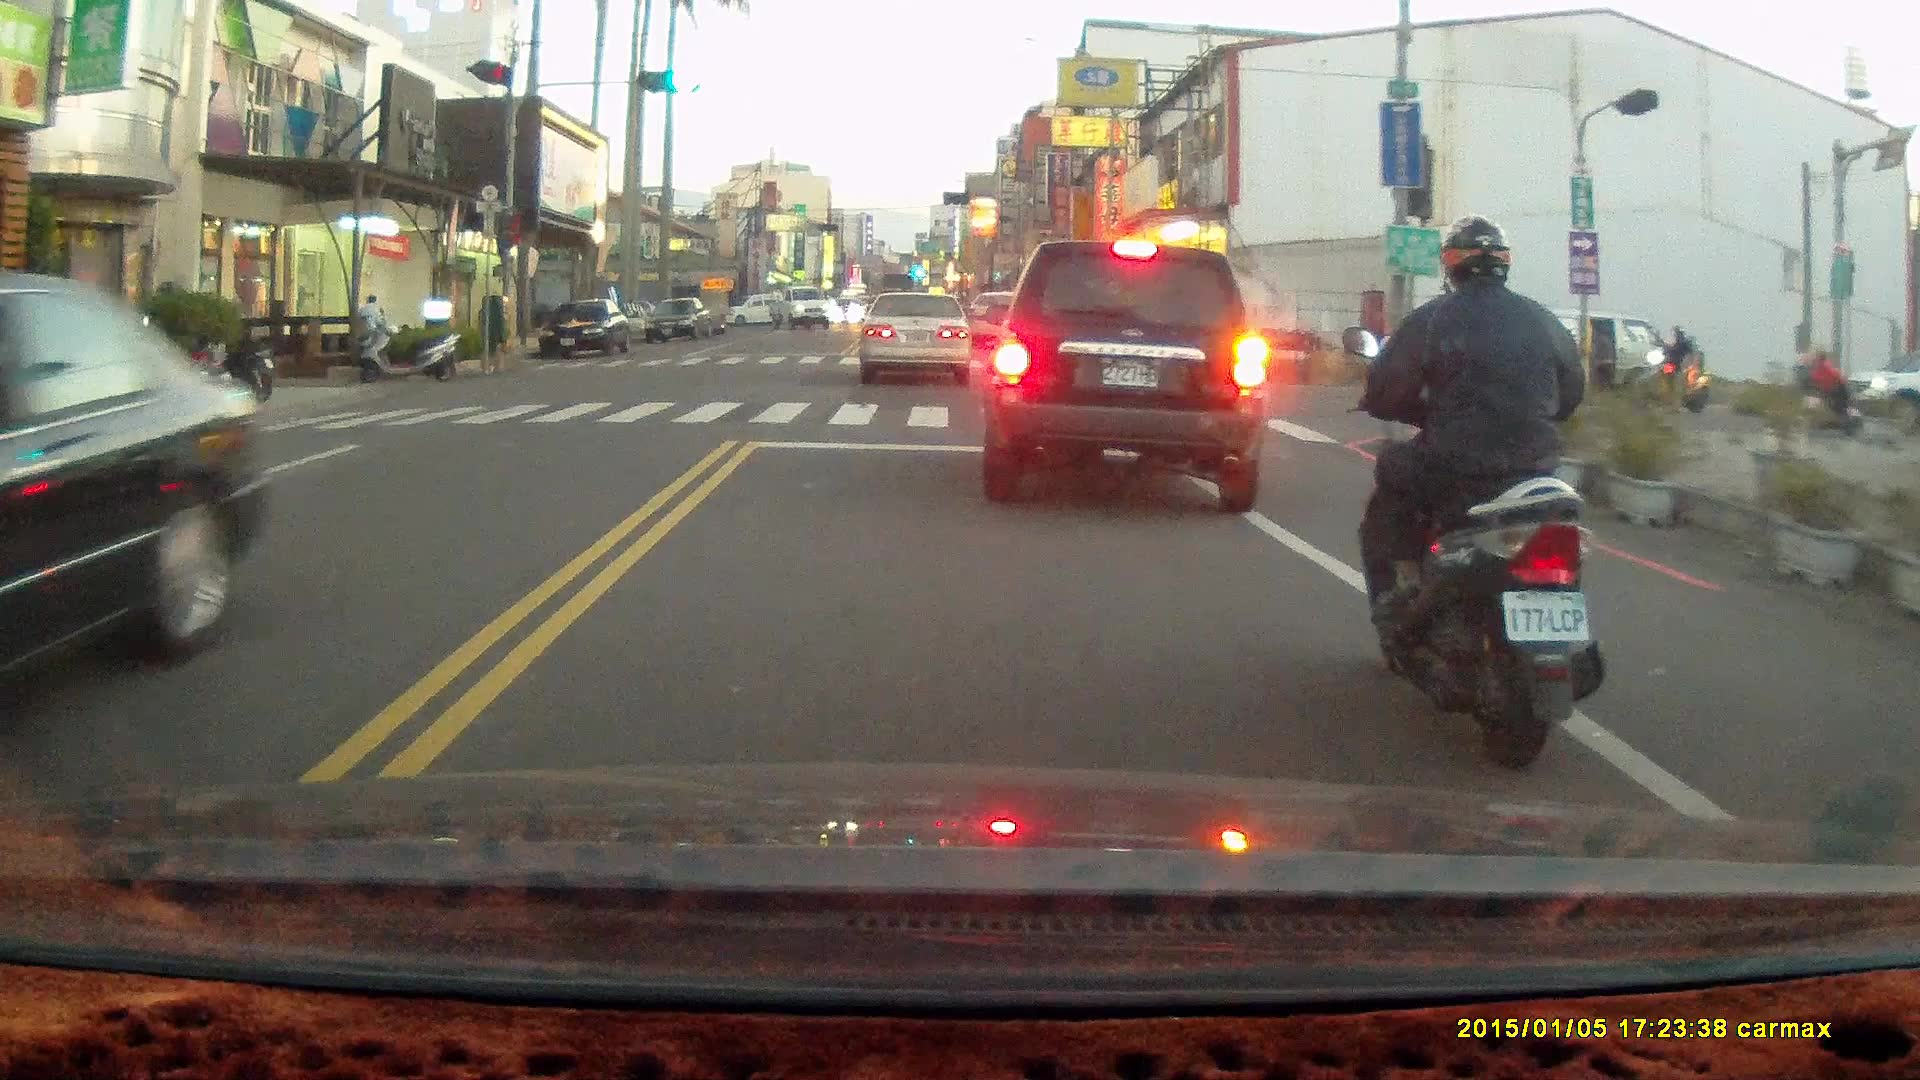pedestrian: (356, 292, 386, 360), (1591, 320, 1614, 391)
rider: (1337, 212, 1606, 768), (1783, 344, 1861, 436), (1634, 319, 1706, 411)
vehicle: (1, 271, 273, 723), (984, 238, 1266, 516), (1476, 307, 1681, 408), (861, 292, 974, 388), (537, 299, 635, 358), (642, 298, 712, 347)
